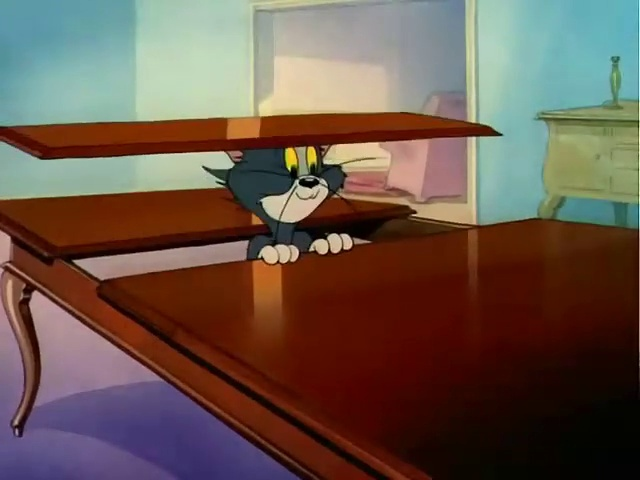tom: (212, 120, 392, 279)
